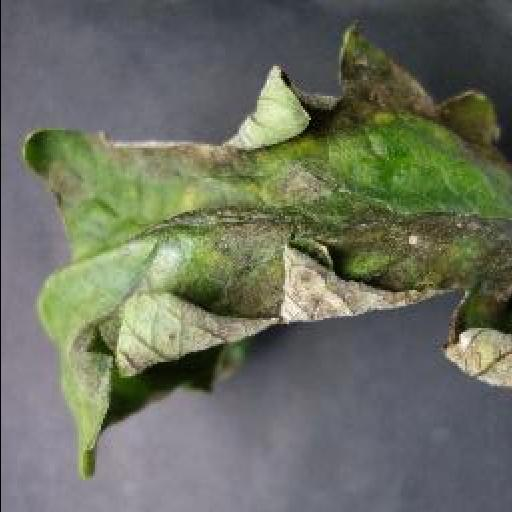disease_tomato: (18, 21, 512, 483)
